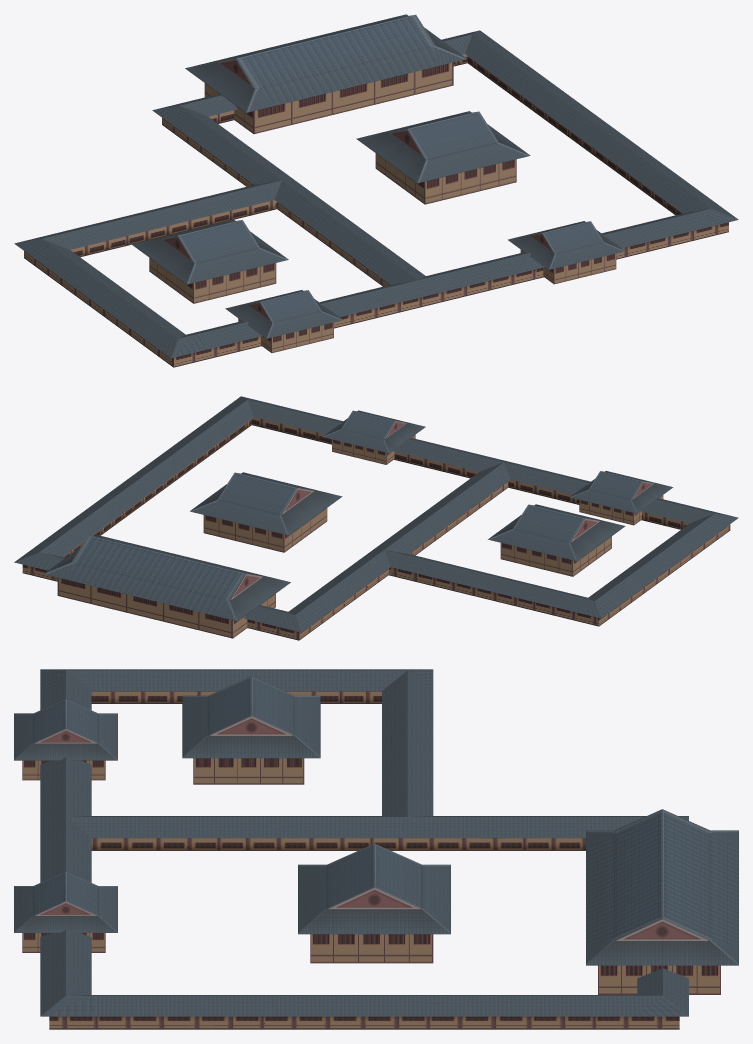
Rendered from BulKookSa.FBX.
3 views of the same model, one above another, from view 1: azimuth 30°, elevation 25°; view 2: azimuth 150°, elevation 25°; view 3: azimuth 270°, elevation 25° (orthographic). The views are drawn at different scales.
Parts seen in each view (by area): view 1: Line002, BulkooksaRoof008, Line001, BulkooksaRoof, BulkooksaRoof007, BulkooksaRoof005, BulkooksaRoof006; view 2: Line002, BulkooksaRoof008, Line001, BulkooksaRoof, BulkooksaRoof007, BulkooksaRoof006, BulkooksaRoof005; view 3: Line002, BulkooksaRoof008, Line001, BulkooksaRoof, BulkooksaRoof007, BulkooksaRoof006, BulkooksaRoof005.
Boxes of the visible parts, x1=… form: Line002: x1=14, y1=30, x2=738, y2=358; BulkooksaRoof008: x1=185, y1=14, x2=466, y2=133; Line001: x1=24, y1=54, x2=728, y2=367; BulkooksaRoof: x1=356, y1=111, x2=530, y2=204; BulkooksaRoof007: x1=132, y1=219, x2=288, y2=303; BulkooksaRoof005: x1=508, y1=221, x2=625, y2=284; BulkooksaRoof006: x1=225, y1=290, x2=343, y2=352; Line002: x1=14, y1=396, x2=738, y2=632; BulkooksaRoof008: x1=43, y1=535, x2=290, y2=638; Line001: x1=22, y1=417, x2=730, y2=640; BulkooksaRoof: x1=190, y1=472, x2=342, y2=552; BulkooksaRoof007: x1=488, y1=504, x2=625, y2=576; BulkooksaRoof006: x1=570, y1=471, x2=673, y2=525; BulkooksaRoof005: x1=322, y1=410, x2=425, y2=464; Line002: x1=40, y1=669, x2=688, y2=1016; BulkooksaRoof008: x1=586, y1=809, x2=738, y2=994; Line001: x1=49, y1=691, x2=679, y2=1029; BulkooksaRoof: x1=298, y1=843, x2=450, y2=963; BulkooksaRoof007: x1=182, y1=676, x2=320, y2=784; BulkooksaRoof006: x1=14, y1=699, x2=117, y2=780; BulkooksaRoof005: x1=14, y1=871, x2=117, y2=952.
Bounding box in the file's own units: 4.44 × 0.4098 × 3.91.
3 materials, 3 textured.
